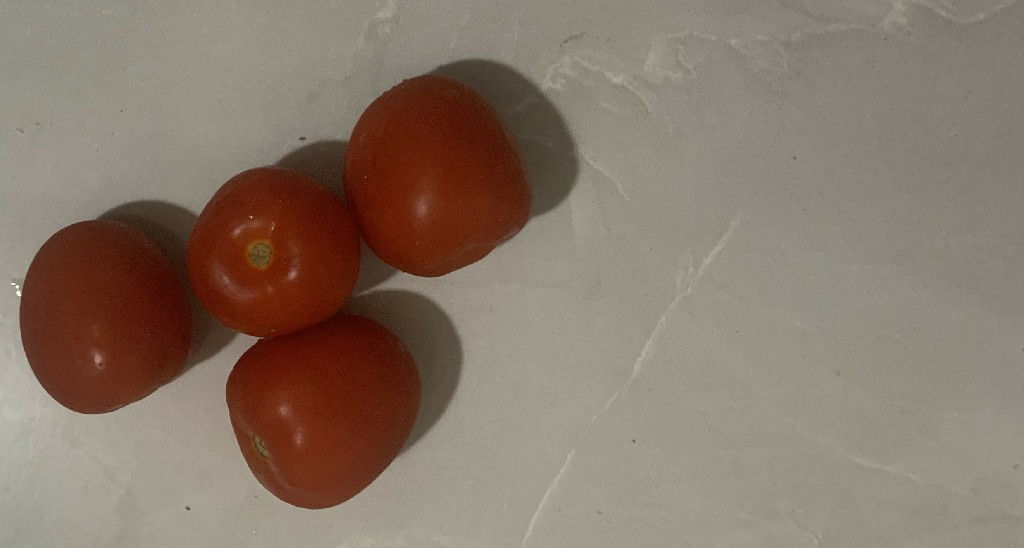OK: (227, 312, 418, 511), (343, 78, 532, 276), (21, 217, 190, 413), (195, 165, 355, 334)
